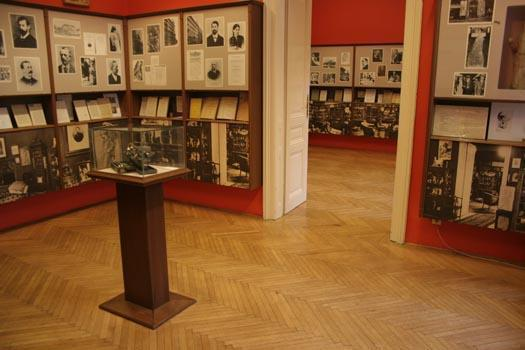Puerta: (286, 1, 307, 206)
